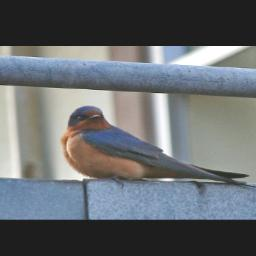Swallow: (60, 105, 256, 191)
